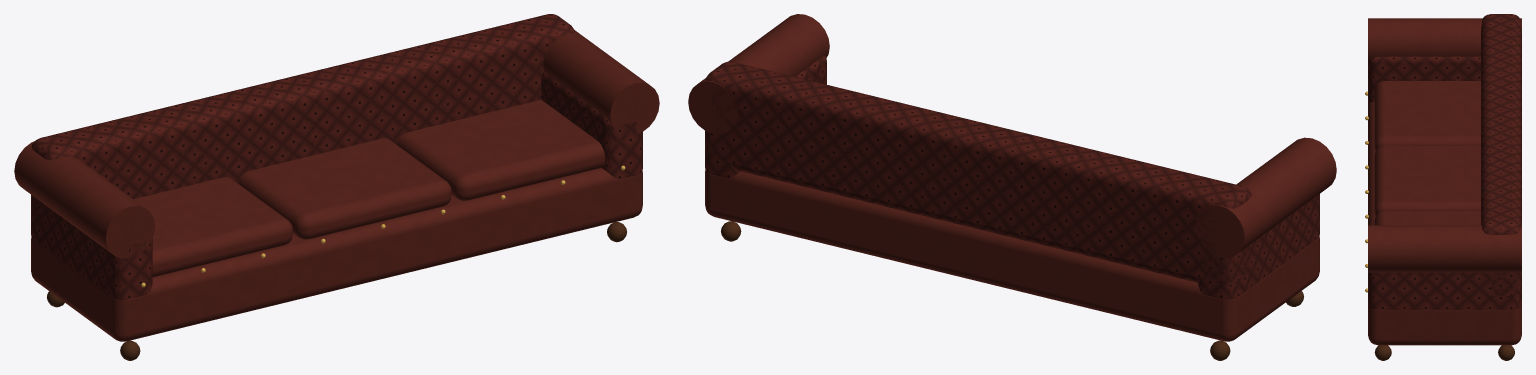
Rendered from sofa_casino.glb.
3 views of the same model, side by side, from view 1: azimuth 30°, elevation 25°; view 2: azimuth 150°, elevation 25°; view 3: azimuth 270°, elevation 25° (orthographic). The views are drawn at different scales.
Visible parts, largest first — view 1: sofa_casino; view 2: sofa_casino; view 3: sofa_casino.
Boxes of the visible parts, x1,y1,x2,y2 form: sofa_casino: (14,14,659,360); sofa_casino: (688,14,1336,360); sofa_casino: (1365,14,1521,360).
Bounding box in the file's own units: 3.14 × 0.91 × 0.917.
4 materials, 3 textured.
